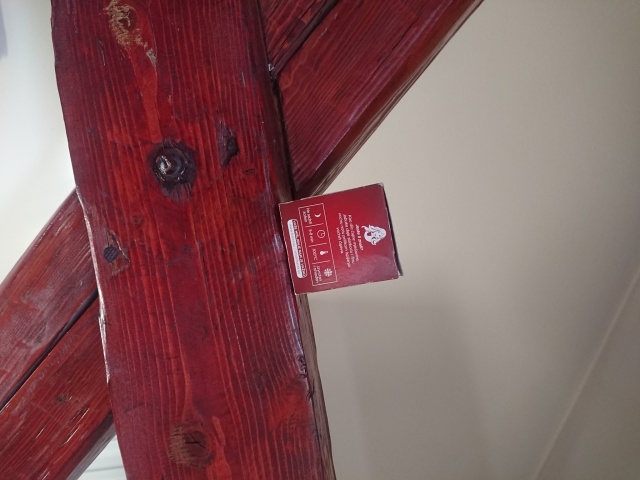Franck Apple Cinnamon Tea 60g: (275, 180, 406, 297)
